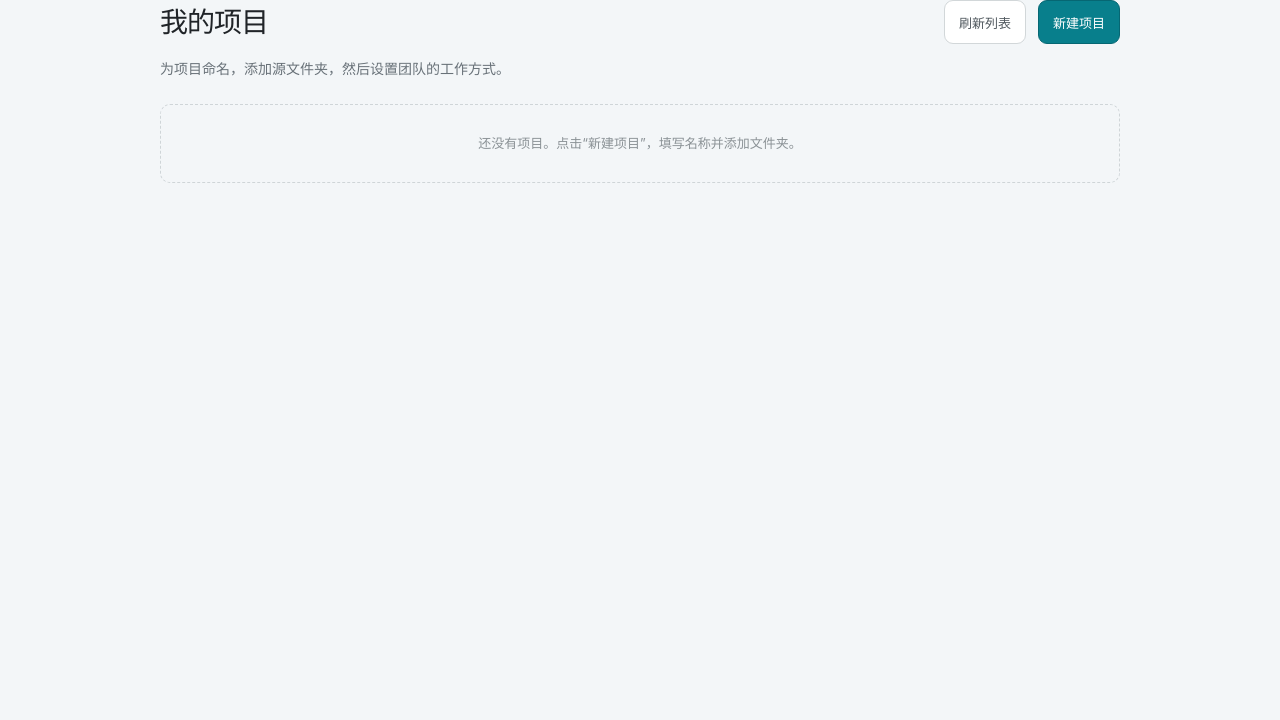
Scenario: uses the native folder chooser and registers only new canonical paths before saving
Later steps or results of the test are not shown.
Click the button "新建项目" at (1079, 22), box [1038, 0, 1120, 44]
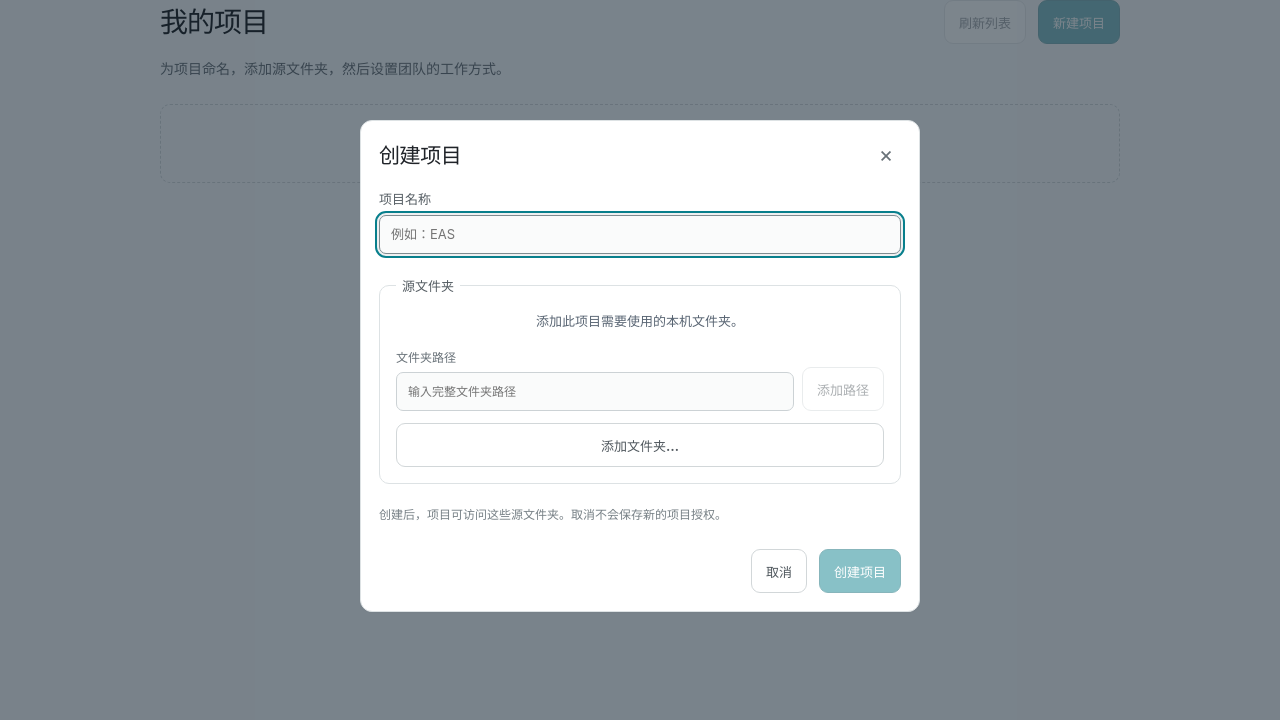
Type "EAS" into the field labelled "项目名称" at (640, 234), box [379, 215, 901, 254]
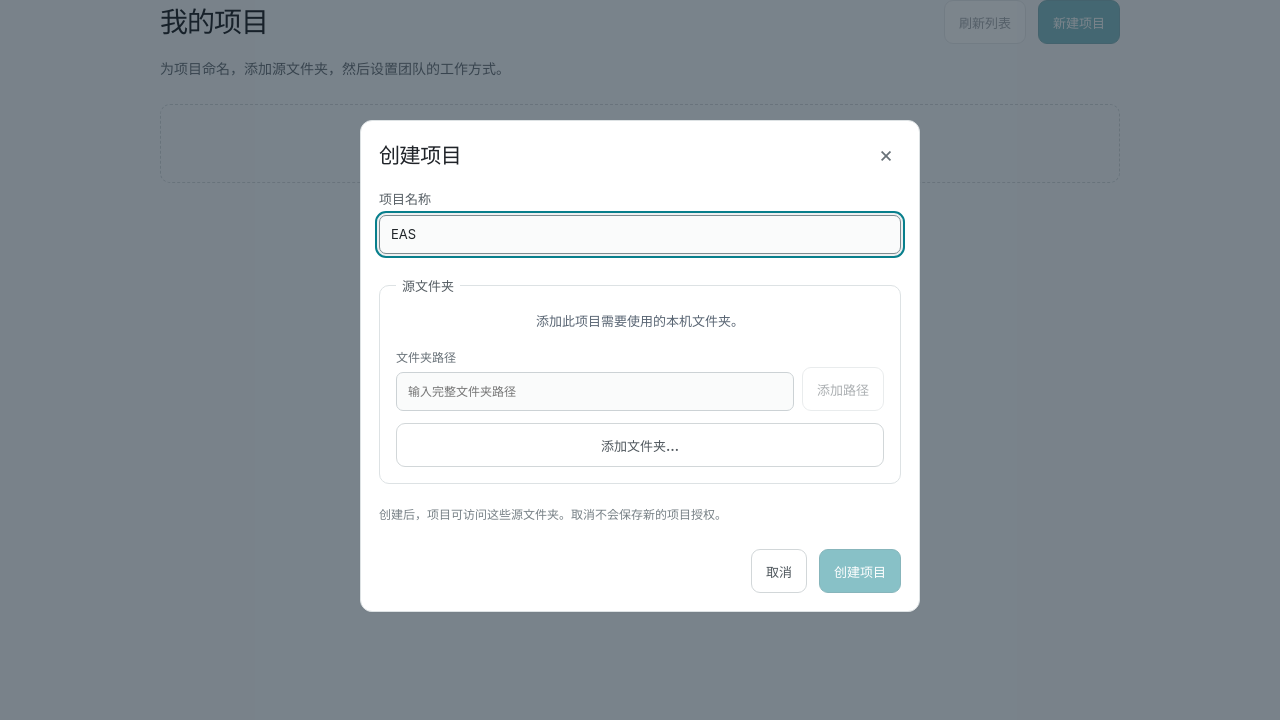
Click the button "添加文件夹…" at (640, 445), box [396, 423, 884, 467]
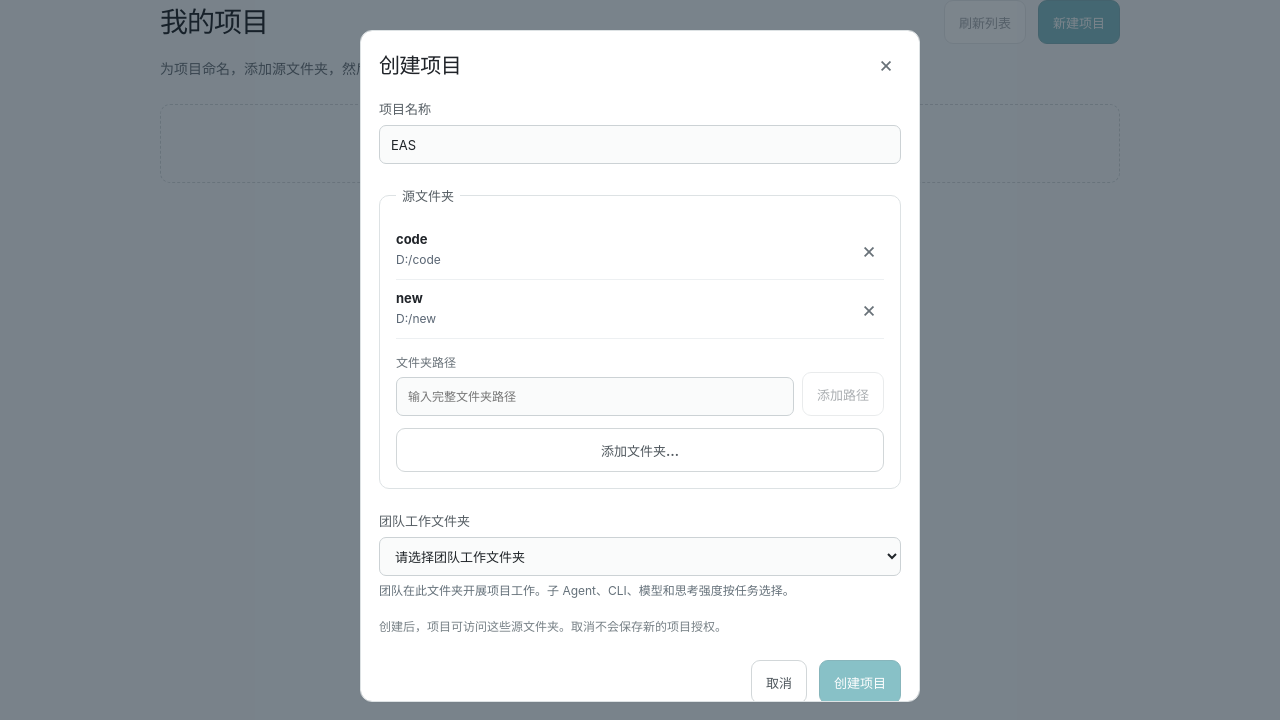
Check: the text "new" is shown, box [396, 290, 423, 306]
